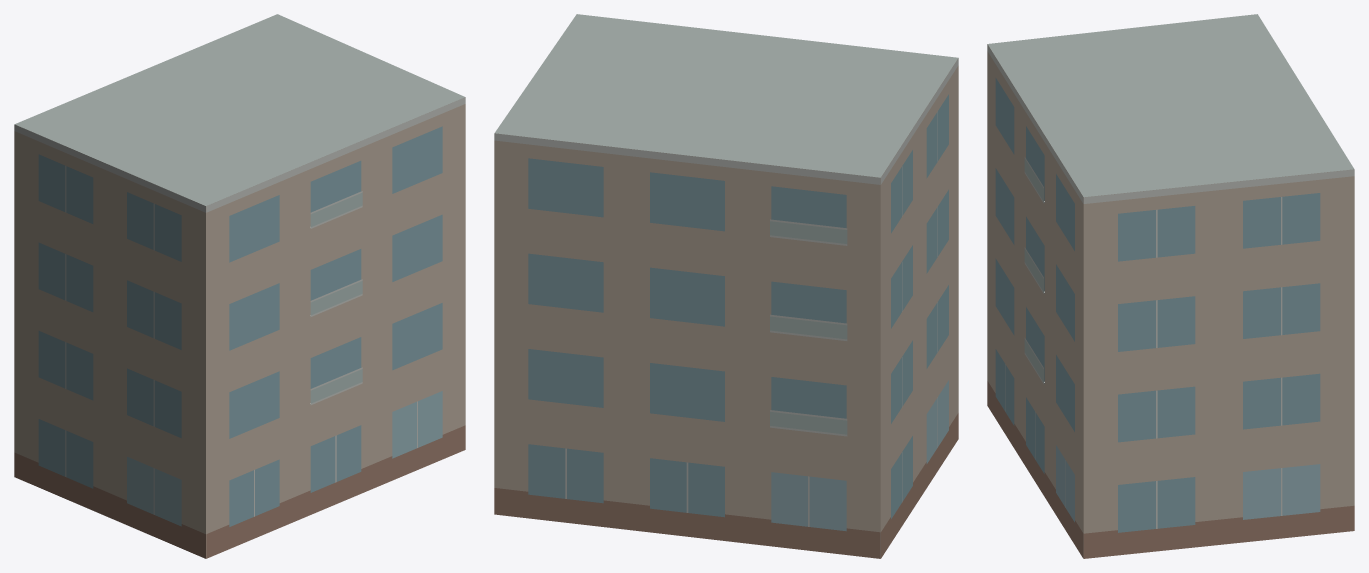
Rendered from survey-upis-32720604.glb.
3 views of the same model, side by side, from view 1: azimuth 30°, elevation 25°; view 2: azimuth 150°, elevation 25°; view 3: azimuth 270°, elevation 25° (orthographic). The views are drawn at different scales.
Visible parts, largest first — view 1: survey-upis-32720604.tmp; view 2: survey-upis-32720604.tmp; view 3: survey-upis-32720604.tmp.
Part boxes in pixels (x1,y1,x2,y2): survey-upis-32720604.tmp: (14, 14, 465, 558); survey-upis-32720604.tmp: (494, 14, 958, 558); survey-upis-32720604.tmp: (987, 14, 1354, 558).
Bounding box in the file's own units: 13.95 × 12.83 × 11.82.
